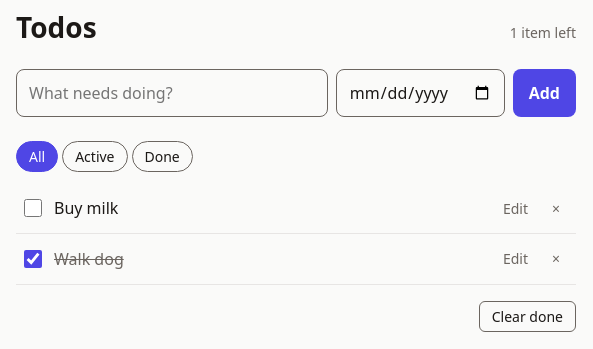
Scenario: App › filters and count › clear done deletes every done todo
The width and height of the screenshot is (593, 349).
expect the text "Buy milk" is shown: met, box [54, 196, 118, 220]
Step 1. Click the button "Clear done" → {"x": 527, "y": 316}, box [479, 301, 576, 332]
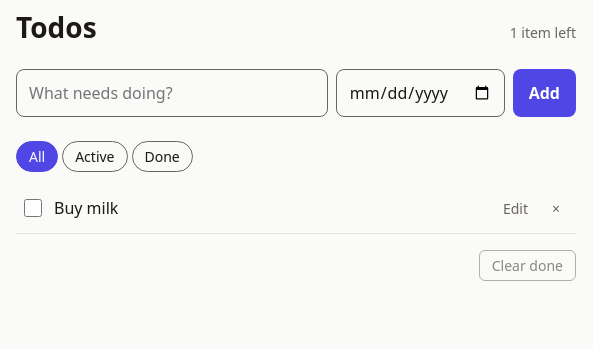
expect the text "Buy milk" is shown: met, box [54, 196, 118, 220]
expect the text "Walk dog" is gone: met
